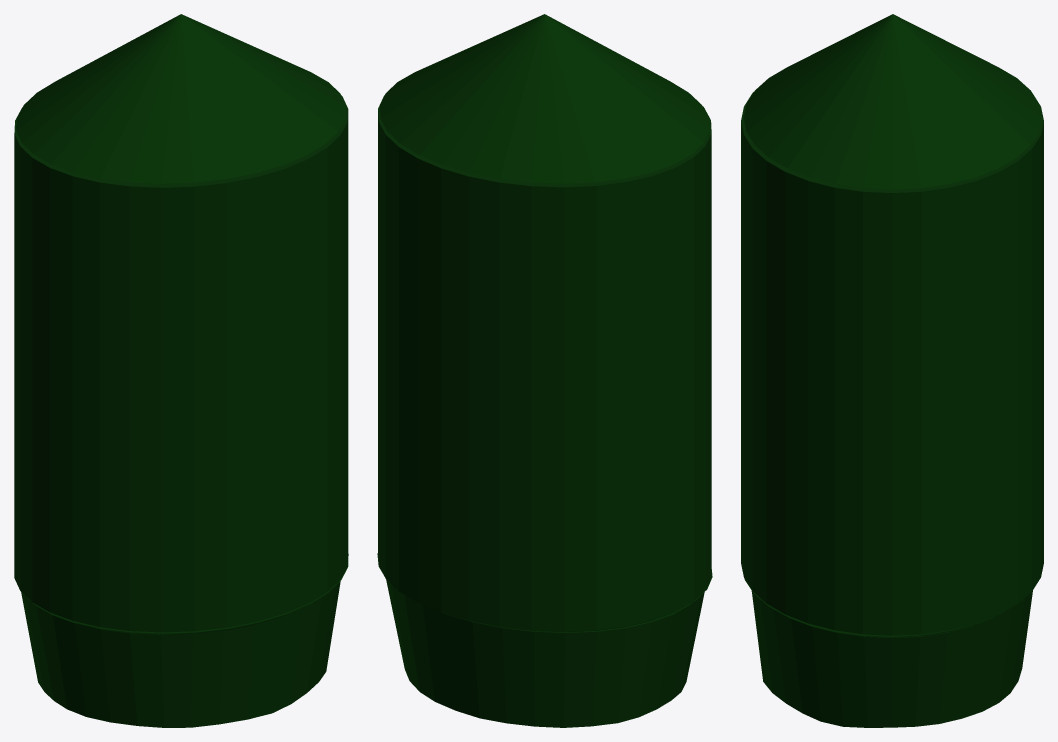
Rendered from Bomb.glb.
3 views of the same model, side by side, from view 1: azimuth 30°, elevation 25°; view 2: azimuth 150°, elevation 25°; view 3: azimuth 270°, elevation 25° (orthographic).
Parts seen in each view (by area): view 1: Cylinder, Cone, Cylinder.001, Cone.001; view 2: Cylinder, Cone, Cylinder.001; view 3: Cylinder, Cone, Cylinder.001, Cone.001.
Boxes of the visible parts, x1=… form: Cylinder: x1=14, y1=95, x2=348, y2=632; Cone: x1=16, y1=14, x2=346, y2=183; Cylinder.001: x1=21, y1=581, x2=340, y2=727; Cone.001: x1=21, y1=554, x2=348, y2=635; Cylinder: x1=378, y1=95, x2=711, y2=631; Cone: x1=380, y1=14, x2=709, y2=183; Cylinder.001: x1=386, y1=579, x2=704, y2=727; Cylinder: x1=741, y1=92, x2=1043, y2=635; Cone: x1=743, y1=14, x2=1041, y2=189; Cylinder.001: x1=751, y1=590, x2=1032, y2=727; Cone.001: x1=744, y1=579, x2=996, y2=637.
Bounding box in the file's own units: 0.0783 × 0.1645 × 0.0689.
